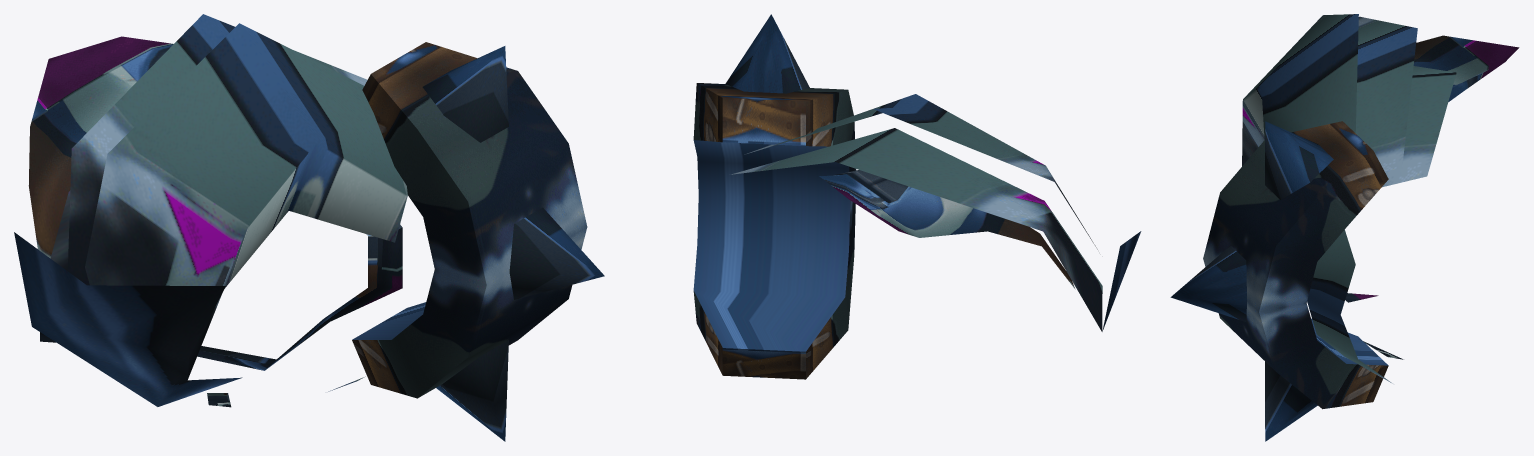
File: Part_Warden_garbs.glb
3 views of the same model, side by side, from view 1: azimuth 30°, elevation 25°; view 2: azimuth 150°, elevation 25°; view 3: azimuth 270°, elevation 25° (orthographic). The views are drawn at different scales.
Parts seen in each view (by area): view 1: parts.model_snow_p_garb_fixed-Mesh[0]; view 2: parts.model_snow_p_garb_fixed-Mesh[0]; view 3: parts.model_snow_p_garb_fixed-Mesh[0].
Part boxes in pixels (x1=…): parts.model_snow_p_garb_fixed-Mesh[0]: x1=14, y1=14, x2=604, y2=441; parts.model_snow_p_garb_fixed-Mesh[0]: x1=693, y1=14, x2=1141, y2=379; parts.model_snow_p_garb_fixed-Mesh[0]: x1=1170, y1=14, x2=1519, y2=441.
Size of the model in its own units: 0.8726 by 0.6493 by 0.5942.
1 material, 1 textured.
